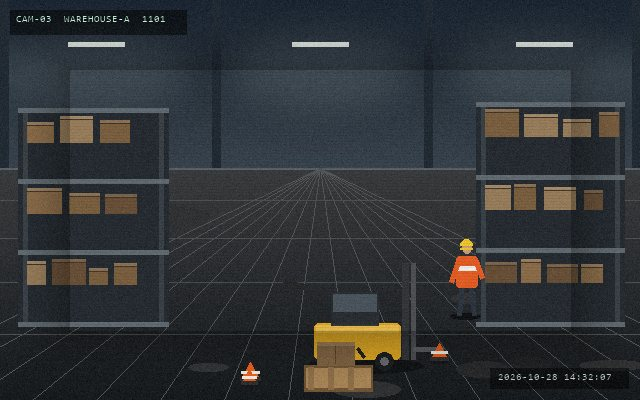cone: (239, 360, 261, 383), (429, 341, 449, 363), (240, 366, 258, 387)
forklift: (310, 261, 445, 373)
pallet: (302, 363, 374, 393)
person: (449, 237, 484, 318)
shelf: (476, 102, 624, 322), (18, 108, 168, 322)
